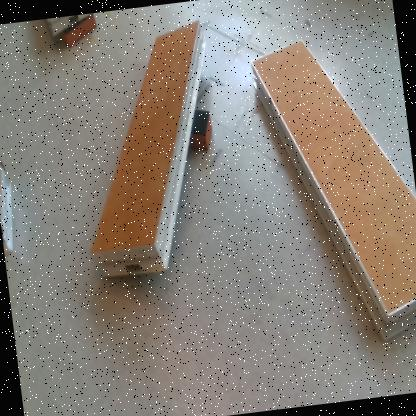Stairs: (254, 36, 416, 340), (92, 21, 208, 279), (1, 161, 15, 258), (47, 14, 91, 37)
